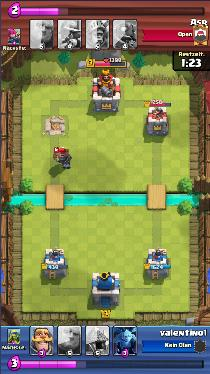enemy_hunter: (51, 149, 72, 169)
